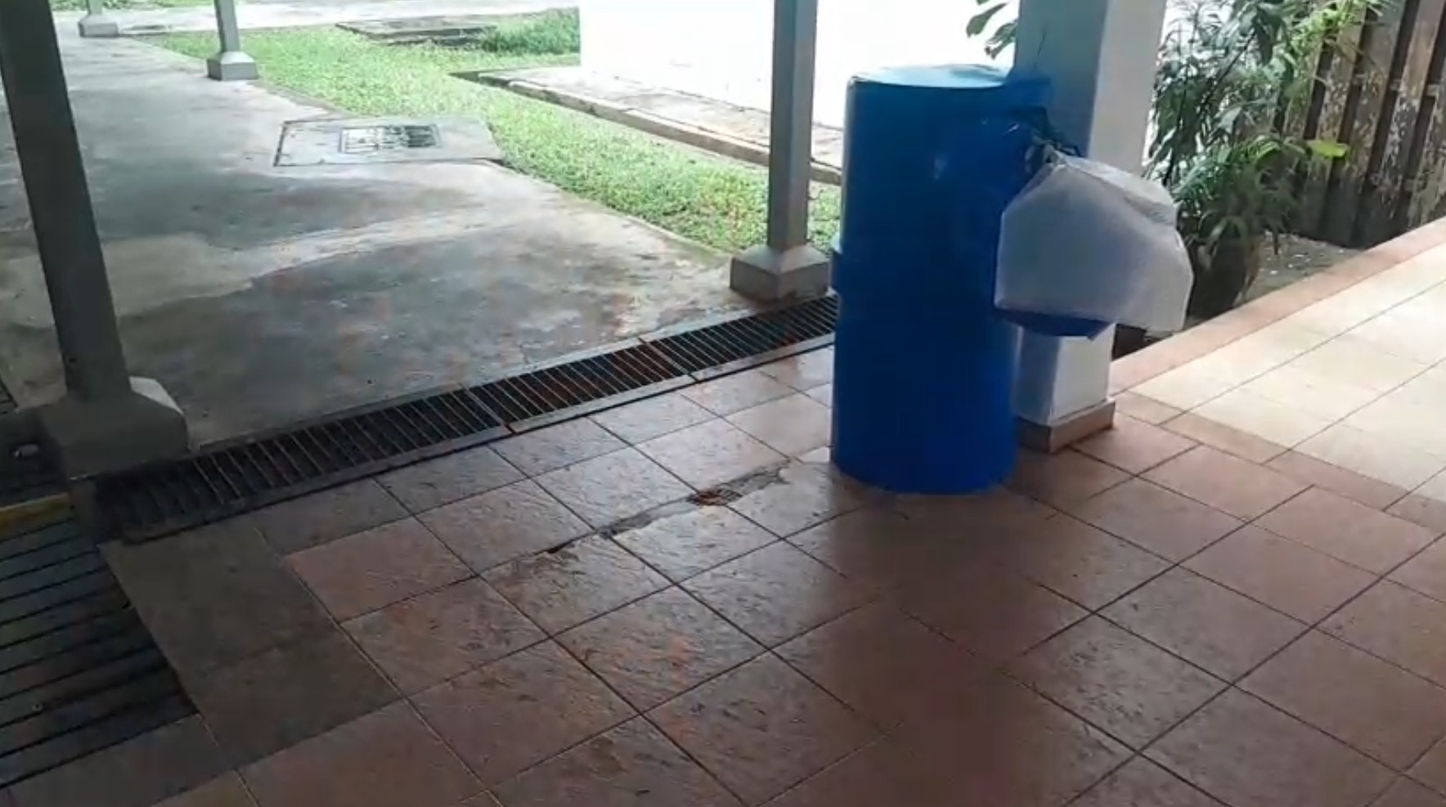bin_full: (832, 65, 1185, 494)
